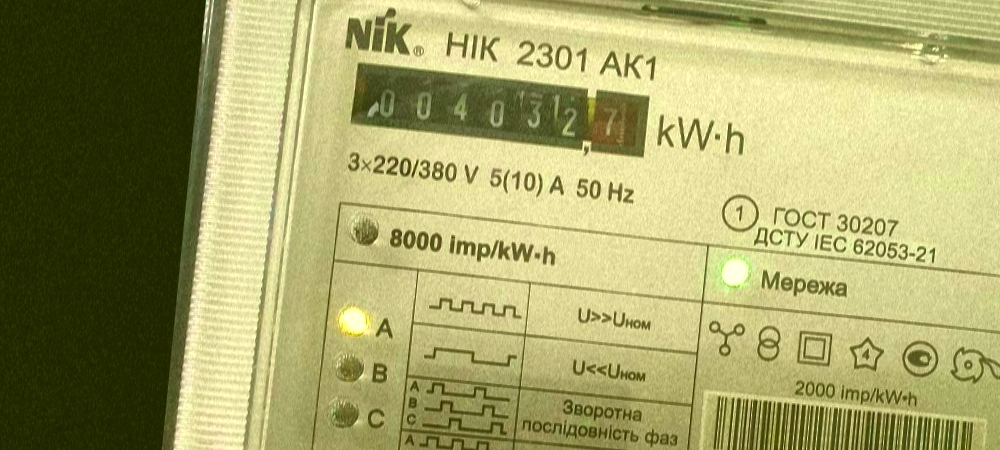0: (413, 89, 436, 124), (377, 85, 399, 120), (486, 96, 508, 131)
2: (560, 104, 581, 140)
3: (524, 98, 545, 132)
4: (449, 90, 473, 127)
7: (601, 105, 621, 140)
screen: (339, 54, 660, 171)
